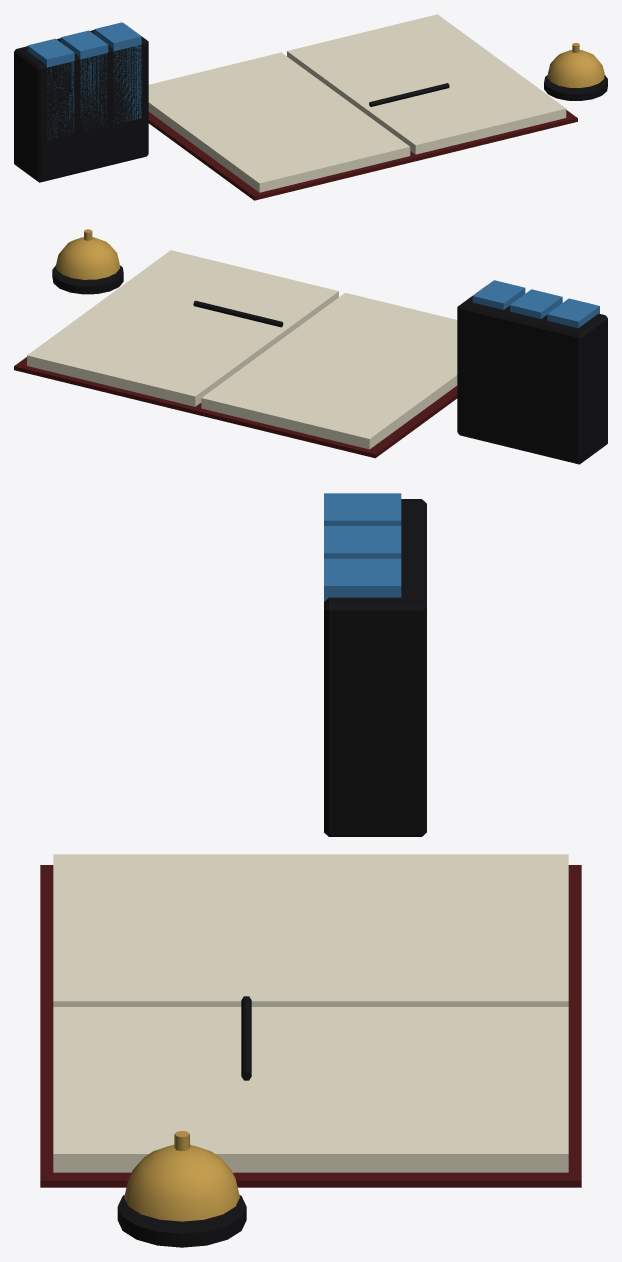
The model's file is counter_kit.glb.
The picture shows the model from 3 angles, top to bottom: view 1: azimuth 30°, elevation 25°; view 2: azimuth 150°, elevation 25°; view 3: azimuth 270°, elevation 25°; orthographic projection. The views are drawn at different scales.
Visible parts, largest first — view 1: counter_kit; view 2: counter_kit; view 3: counter_kit.
Part boxes in pixels (box(x1,y1,x2,y2)): counter_kit: box(14, 14, 607, 200); counter_kit: box(14, 229, 607, 464); counter_kit: box(40, 493, 581, 1247).
Bounding box in the file's own units: 0.95 × 0.21 × 0.42.
